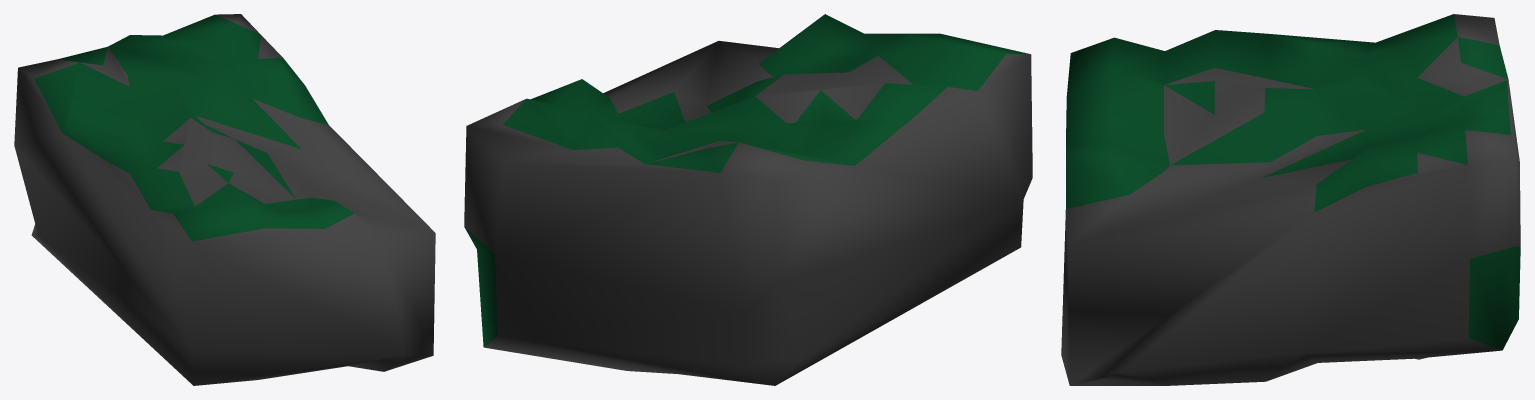
File: swamp_rock.glb
3 views of the same model, side by side, from view 1: azimuth 30°, elevation 25°; view 2: azimuth 150°, elevation 25°; view 3: azimuth 270°, elevation 25° (orthographic). The views are drawn at different scales.
Visible parts, largest first — view 1: Cube; view 2: Cube; view 3: Cube.
Boxes of the visible parts, bbox=[...] form: Cube: bbox=[14, 14, 435, 385]; Cube: bbox=[464, 14, 1032, 385]; Cube: bbox=[1061, 14, 1520, 385].
Bounding box in the file's own units: 0.5967 × 0.5 × 0.8398.
